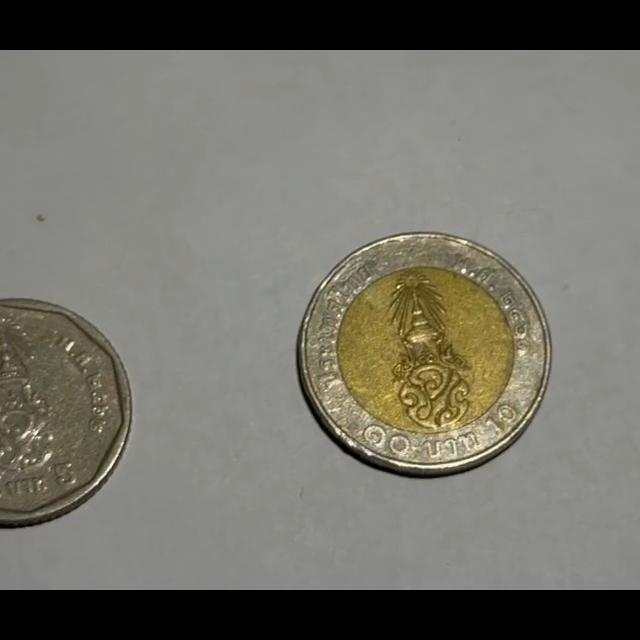10-baht: (296, 233, 549, 476)
5-baht: (0, 297, 130, 528)
